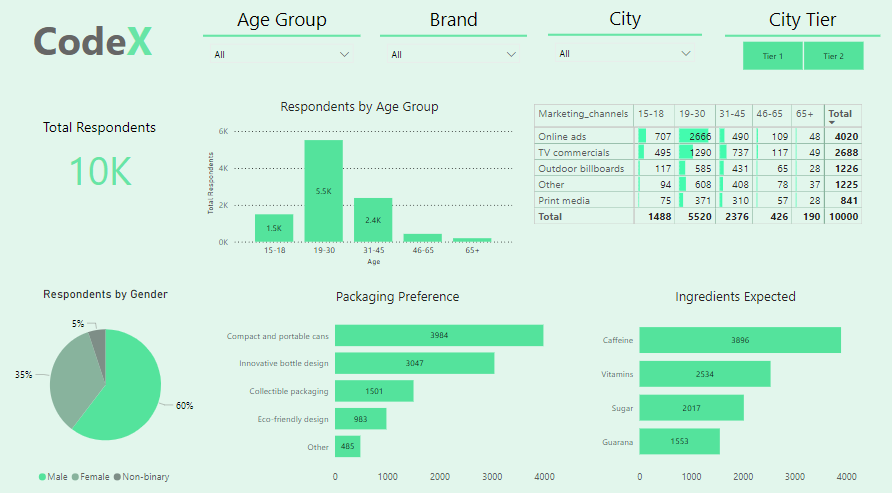

What the dashboard file says about the page in this screenshot:
{"tool":"powerbi","page":{"name":"Page 1","canvas":[1280,720],"ordinal":0},"visuals":[{"type":"pieChart","title":"Respondents by Gender","fields":{"Category":["respondents.Gender"],"Y":["Measure Table.Total Respondents"]},"box":[12.9,411.4,278.6,290],"z":0},{"type":"card","title":"Total Respondents","fields":{"Values":["Measure Table.Total Respondents"]},"box":[31.4,168.6,223.8,123.7],"z":1000,"group":"g1"},{"type":"clusteredColumnChart","title":"Respondents by Age Group","fields":{"Category":["respondents.Age"],"Y":["Measure Table.Total Respondents"]},"box":[291.4,140,447.1,245.7],"z":1000},{"type":"clusteredBarChart","title":"Ingredients Expected","fields":{"Category":["survey_responses.Ingredients_expected"],"Y":["Measure Table.Total Respondents"]},"box":[850,411.4,404.3,290],"z":3000},{"type":"clusteredBarChart","title":"Packaging Preference","fields":{"Y":["Measure Table.Total Respondents"],"Category":["survey_responses.Packaging_preference"]},"box":[310,411.4,518.6,290],"z":4000},{"type":"textbox","box":[12.7,0,241.4,119.1],"z":5000},{"type":"slicer","title":"City","fields":{"Values":["Cities.City"]},"box":[784.9,8.3,220.2,102.7],"z":6000},{"type":"group","id":"g1","title":"Group 1","box":[31.4,168.6,222.9,124.3],"z":7000},{"type":"slicer","title":"Brand","fields":{"Values":["survey_responses.Current_brands"]},"box":[544.8,9.9,210.3,102.7],"z":8000},{"type":"slicer","title":"City Tier","fields":{"Values":["Cities.Tier"]},"box":[1036.6,9.9,221.9,102.7],"z":9000},{"type":"slicer","title":"Age Group","fields":{"Values":["respondents.Age"]},"box":[291.4,9.9,225.2,102.7],"z":10000},{"type":"pivotTable","fields":{"Rows":["survey_responses.Marketing_channels"],"Columns":["respondents.Age"],"Values":["Measure Table.Total Respondents"]},"box":[754.3,140,501.4,245.7],"z":10001}]}

Visuals, with their boxes in screenshot pixels (x1, y1, x2, y2), scaled from the page's 1280x720 canvas onto the 892x493 screenshot:
"Respondents by Gender" pieChart: 9:282:203:480
"Total Respondents" card: 22:115:178:200
"Respondents by Age Group" clusteredColumnChart: 203:96:515:264
"Ingredients Expected" clusteredBarChart: 592:282:874:480
"Packaging Preference" clusteredBarChart: 216:282:577:480
textbox: 9:0:177:82
"City" slicer: 547:6:700:76
"Group 1" group: 22:115:177:201
"Brand" slicer: 380:7:526:77
"City Tier" slicer: 722:7:877:77
"Age Group" slicer: 203:7:360:77
pivotTable - survey_responses.Marketing_channels x respondents.Age: 526:96:875:264
